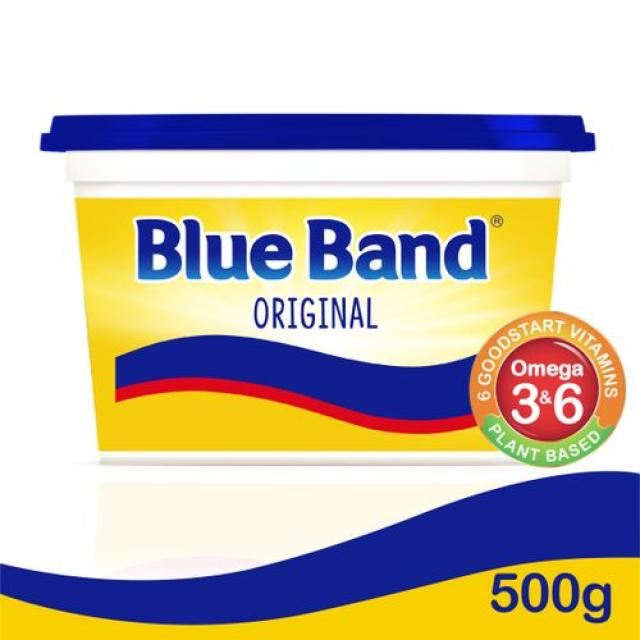butter: (38, 111, 598, 461)
